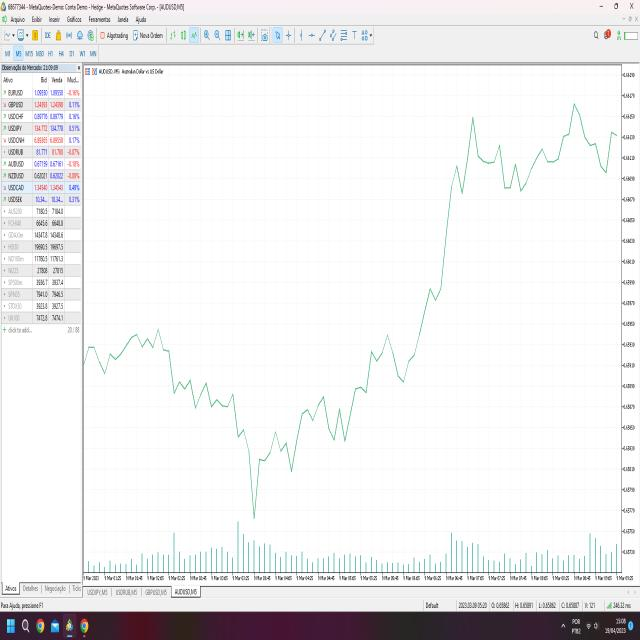fundo_duplo: (322, 374, 359, 456)
